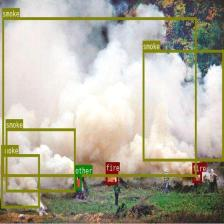fire: (105, 171, 118, 184), (192, 172, 202, 182)
smoke: (2, 17, 196, 176), (142, 50, 224, 160), (5, 128, 75, 192), (1, 154, 39, 208)
